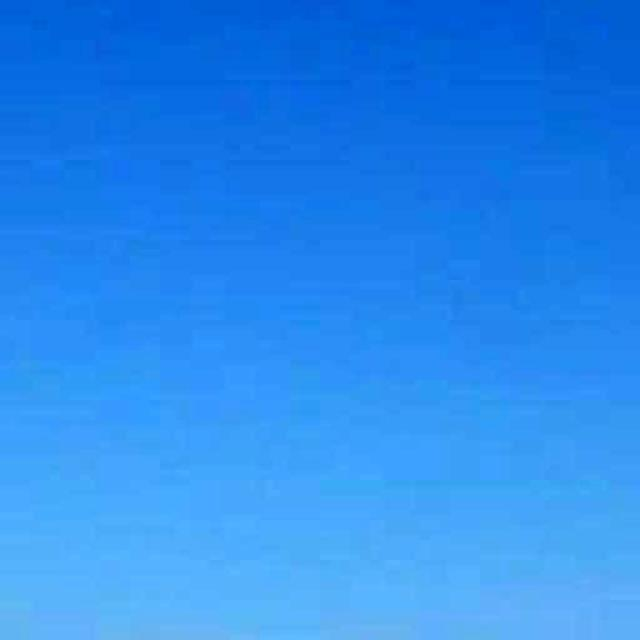drone: (515, 500, 579, 578)
